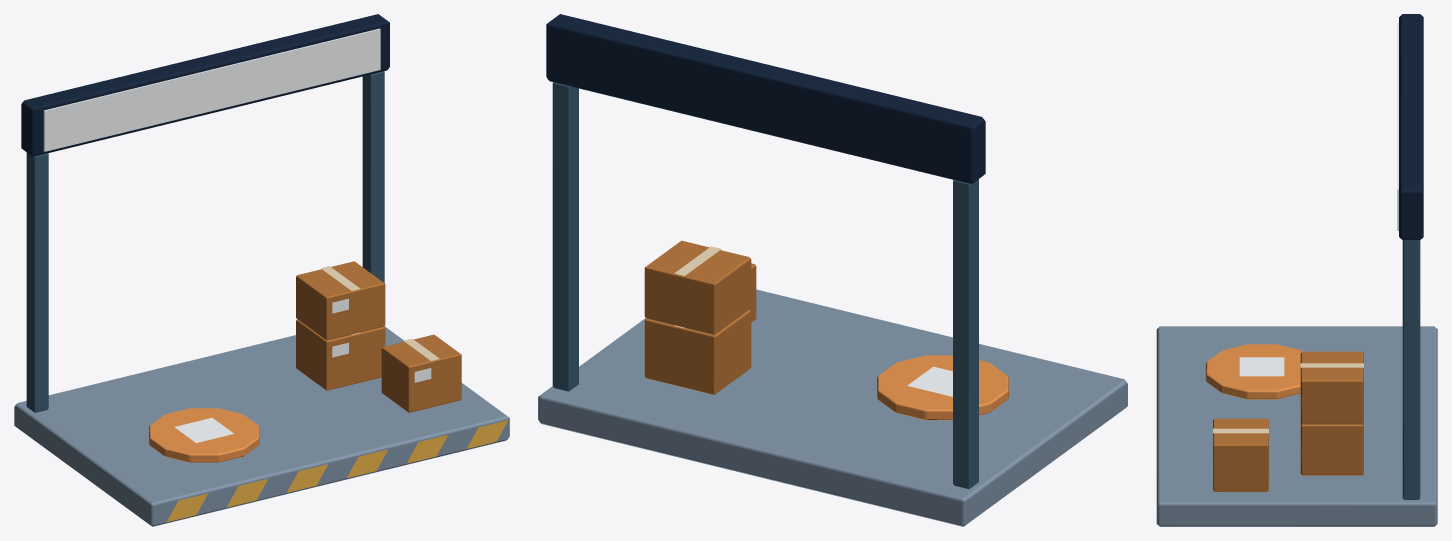
File: CM_Tycoon_DeliveryStation.fbx
The picture shows the model from 3 angles, left to right: view 1: azimuth 30°, elevation 25°; view 2: azimuth 150°, elevation 25°; view 3: azimuth 270°, elevation 25°; orthographic projection. The views are drawn at different scales.
Visible parts, largest first — view 1: Body, Face, Button; view 2: Body, Button; view 3: Body, Button, Face.
Part boxes in pixels (box(x1,y1,x2,y2)): Body: box(14, 14, 509, 526); Face: box(43, 28, 380, 151); Button: box(149, 408, 259, 462); Body: box(538, 14, 1127, 526); Button: box(877, 355, 1008, 420); Body: box(1156, 14, 1437, 526); Button: box(1205, 344, 1302, 399); Face: box(1397, 23, 1398, 230).
Size of the model in its own units: 12 by 8.01 by 10.6.
1 material, 1 textured.
